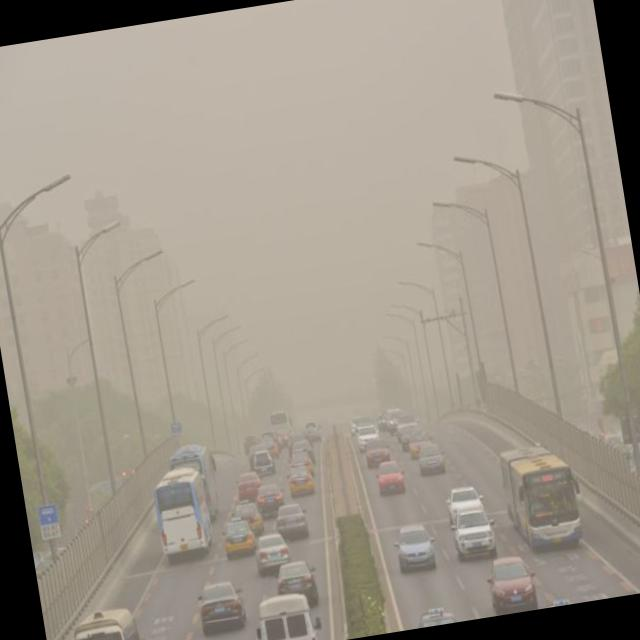car: (251, 589, 327, 640), (485, 553, 540, 617), (194, 582, 250, 636), (273, 559, 323, 615), (450, 506, 499, 561), (392, 523, 439, 575), (252, 531, 294, 578), (221, 517, 258, 561), (274, 502, 311, 544), (444, 479, 485, 516), (375, 459, 409, 498), (412, 606, 465, 629), (417, 441, 449, 479), (256, 481, 287, 513), (287, 464, 315, 495), (236, 467, 263, 498), (238, 500, 265, 531), (356, 421, 383, 450), (364, 436, 391, 463), (409, 428, 434, 455), (399, 424, 425, 449), (396, 417, 420, 440), (254, 449, 275, 474), (294, 437, 315, 461), (305, 415, 323, 440), (263, 433, 281, 454)
